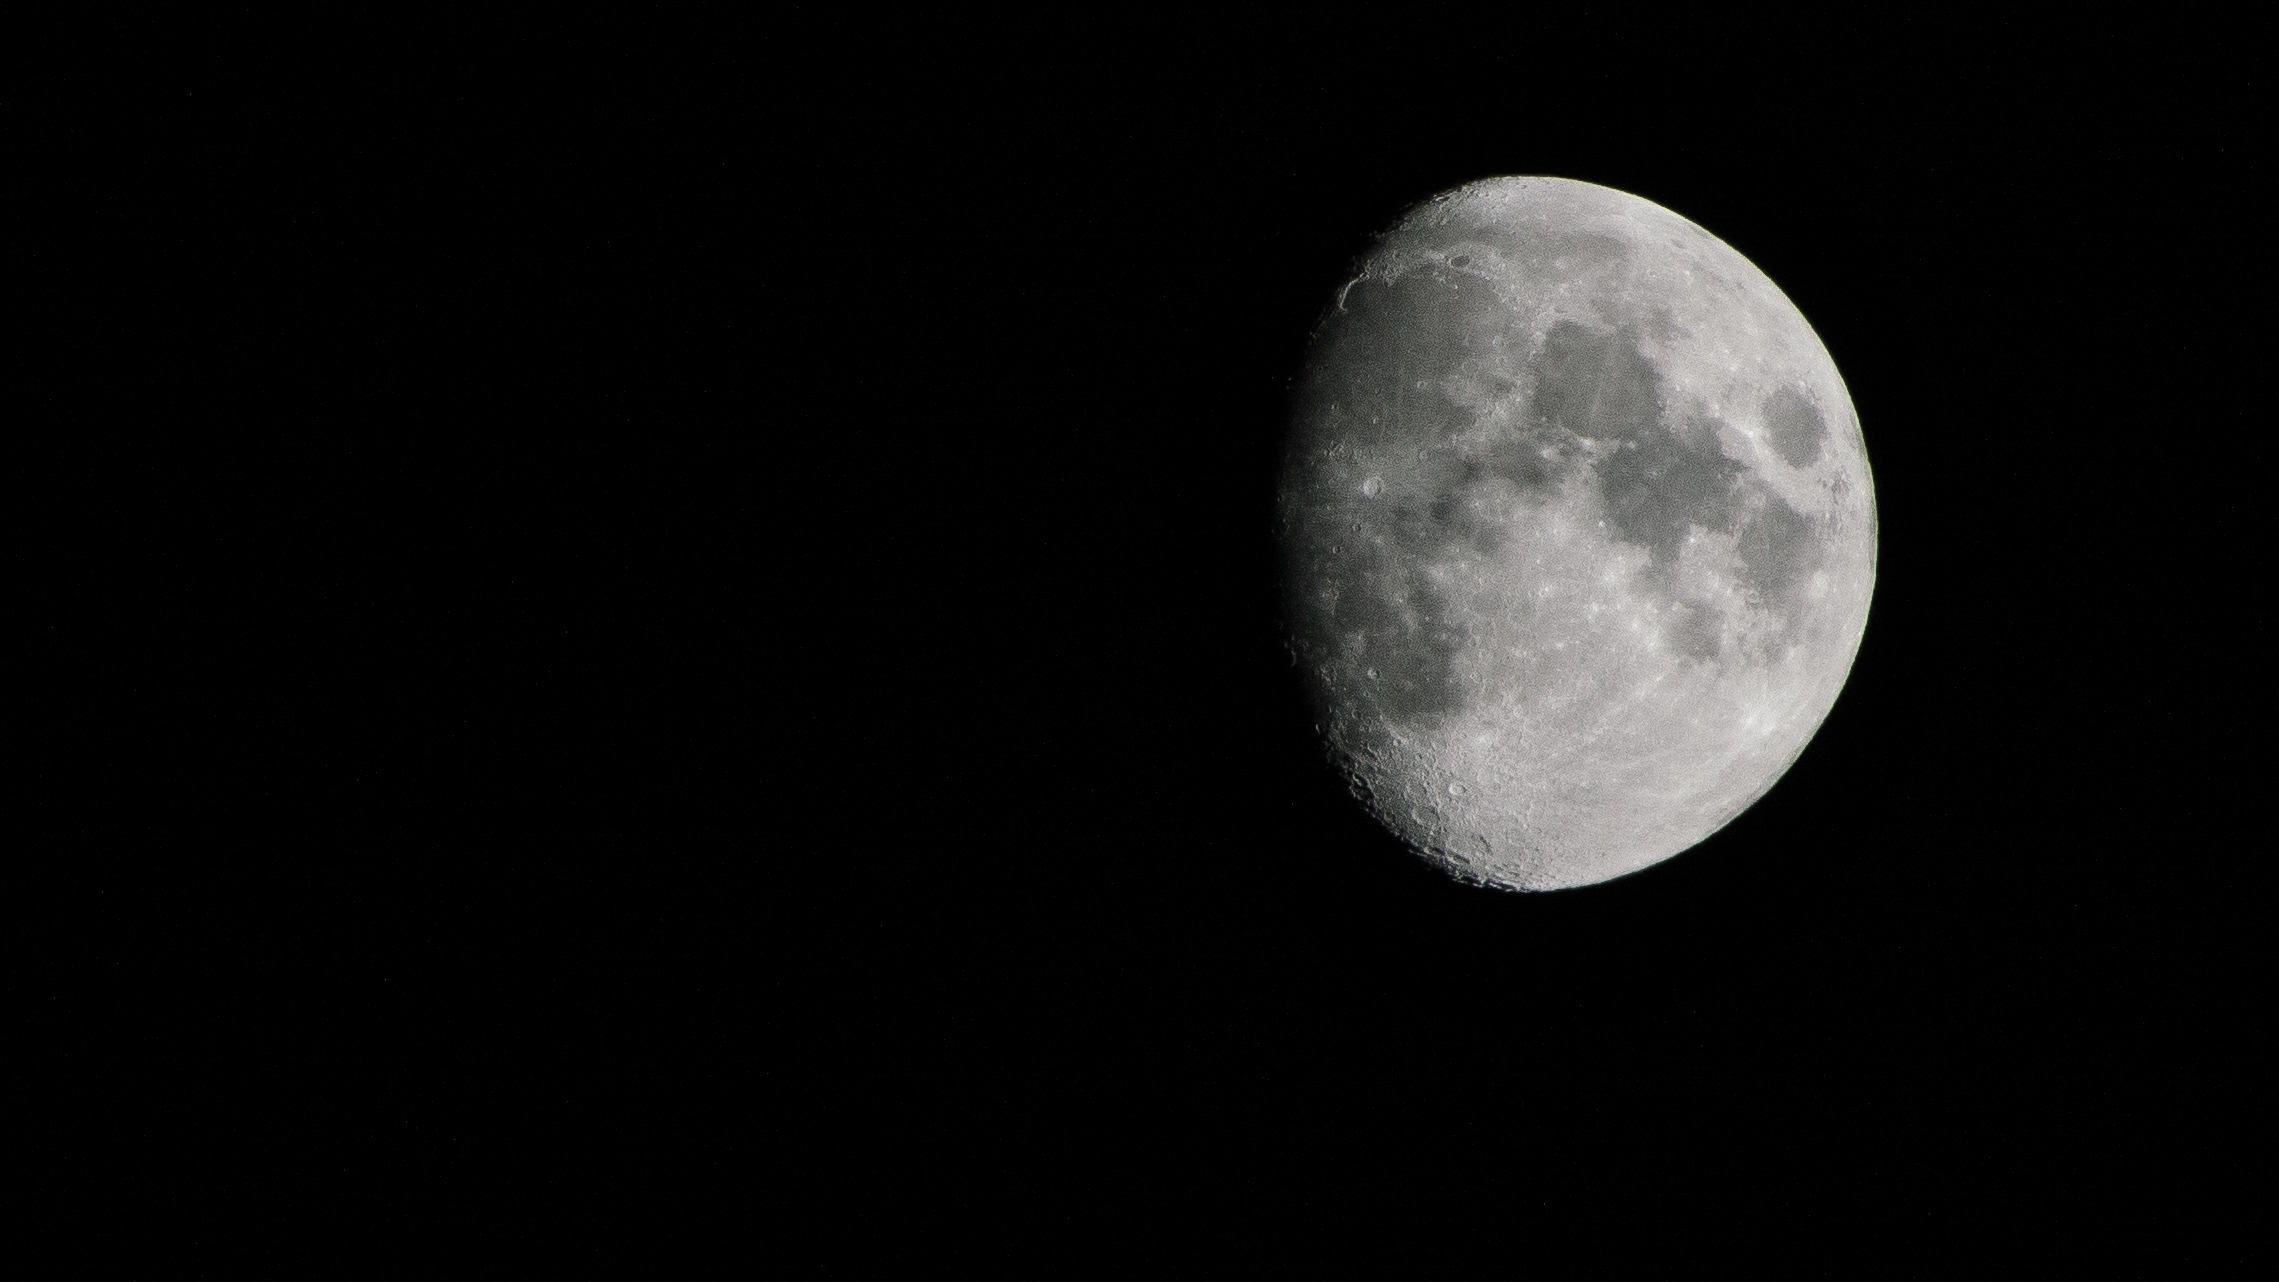crater: (1349, 466, 1399, 509), (1726, 416, 1769, 452), (1440, 246, 1482, 280), (1659, 232, 1706, 260), (1620, 423, 1650, 463), (1442, 775, 1481, 805), (1723, 268, 1753, 299), (1360, 661, 1392, 689), (1550, 629, 1575, 654)
